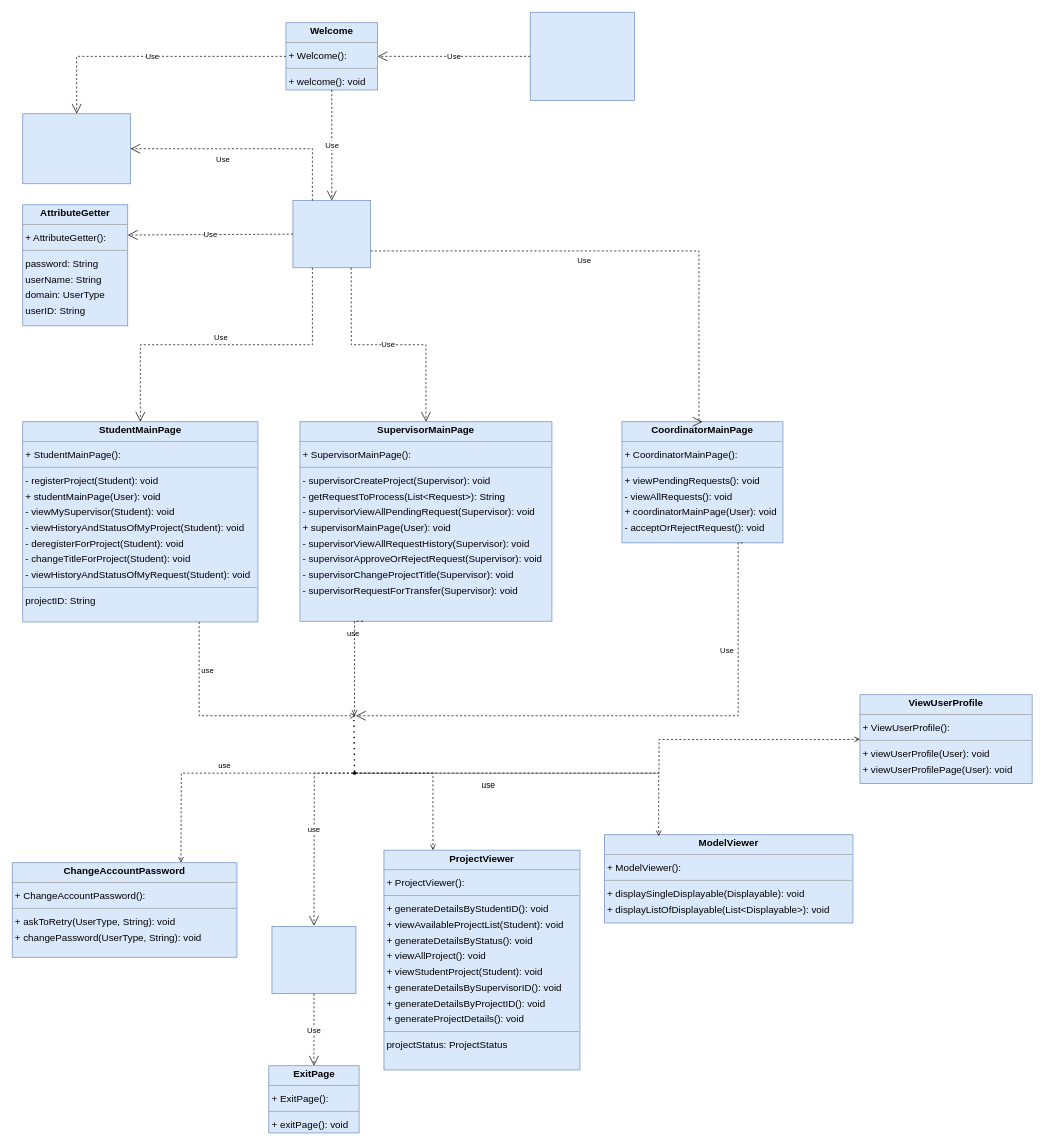
This 1044x1145 diagram has some shape labels left out. Here are the shapes that lost their labels. From the top down, the centre of each, then its label:
pixel 582 56: UIEntry + UIEntry(): - firstStart(): boolean + start(): void
pixel 76 148: ForgetUserID + ForgetUserID(): + forgotUserID(): void
pixel 331 234: LoginUI + LoginUI(): + login(): void
pixel 313 960: Logout + Logout(): + logout(): void
